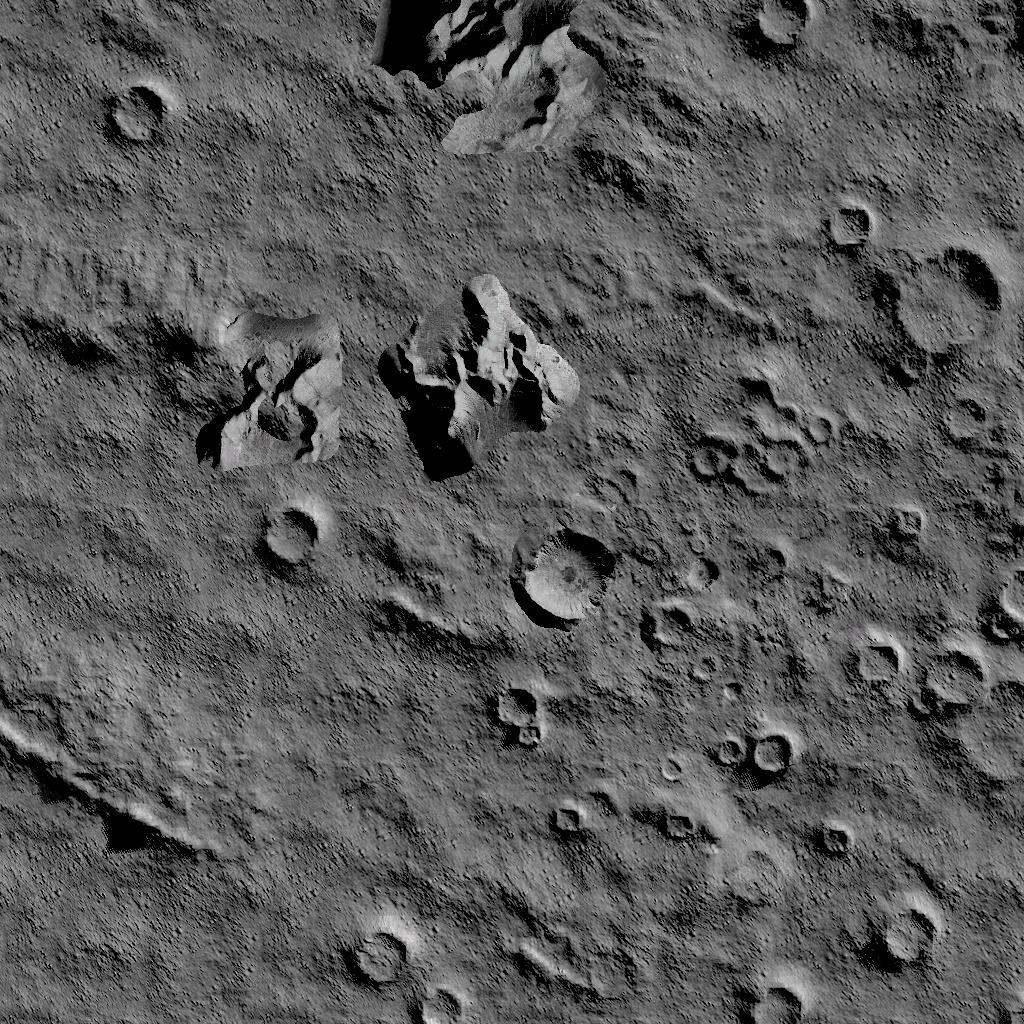Boulders: (0, 250, 345, 474), (370, 0, 668, 211), (382, 272, 580, 477), (0, 704, 224, 873), (362, 512, 490, 656)
Crater: (850, 560, 1024, 790), (883, 248, 1024, 448), (676, 366, 832, 506), (335, 907, 470, 1024), (506, 514, 618, 638), (640, 545, 728, 653), (856, 897, 944, 983), (256, 492, 332, 580), (730, 0, 822, 71), (100, 82, 178, 162), (695, 723, 793, 778), (485, 672, 550, 752), (722, 968, 812, 1024), (814, 196, 872, 266), (876, 494, 932, 546), (543, 792, 593, 844), (653, 798, 702, 846), (806, 814, 854, 862), (979, 975, 1024, 1024)
Plan surface: (3, 886, 302, 1024), (0, 502, 241, 670), (261, 671, 457, 858), (220, 0, 352, 230), (764, 83, 1022, 176)
